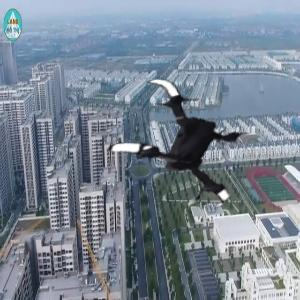drone: (108, 69, 268, 229)
